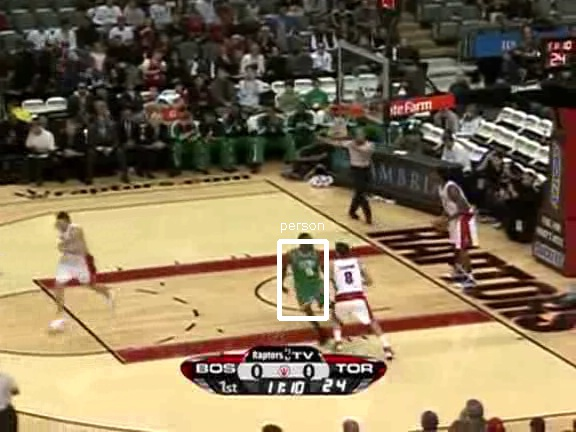person: (293, 238, 327, 319), (292, 238, 326, 319), (294, 238, 328, 319), (293, 237, 327, 318), (293, 239, 327, 320)
target_negative: (272, 289, 484, 357), (238, 94, 519, 129), (347, 310, 429, 381), (360, 103, 385, 304), (135, 307, 376, 319), (172, 309, 565, 314)
